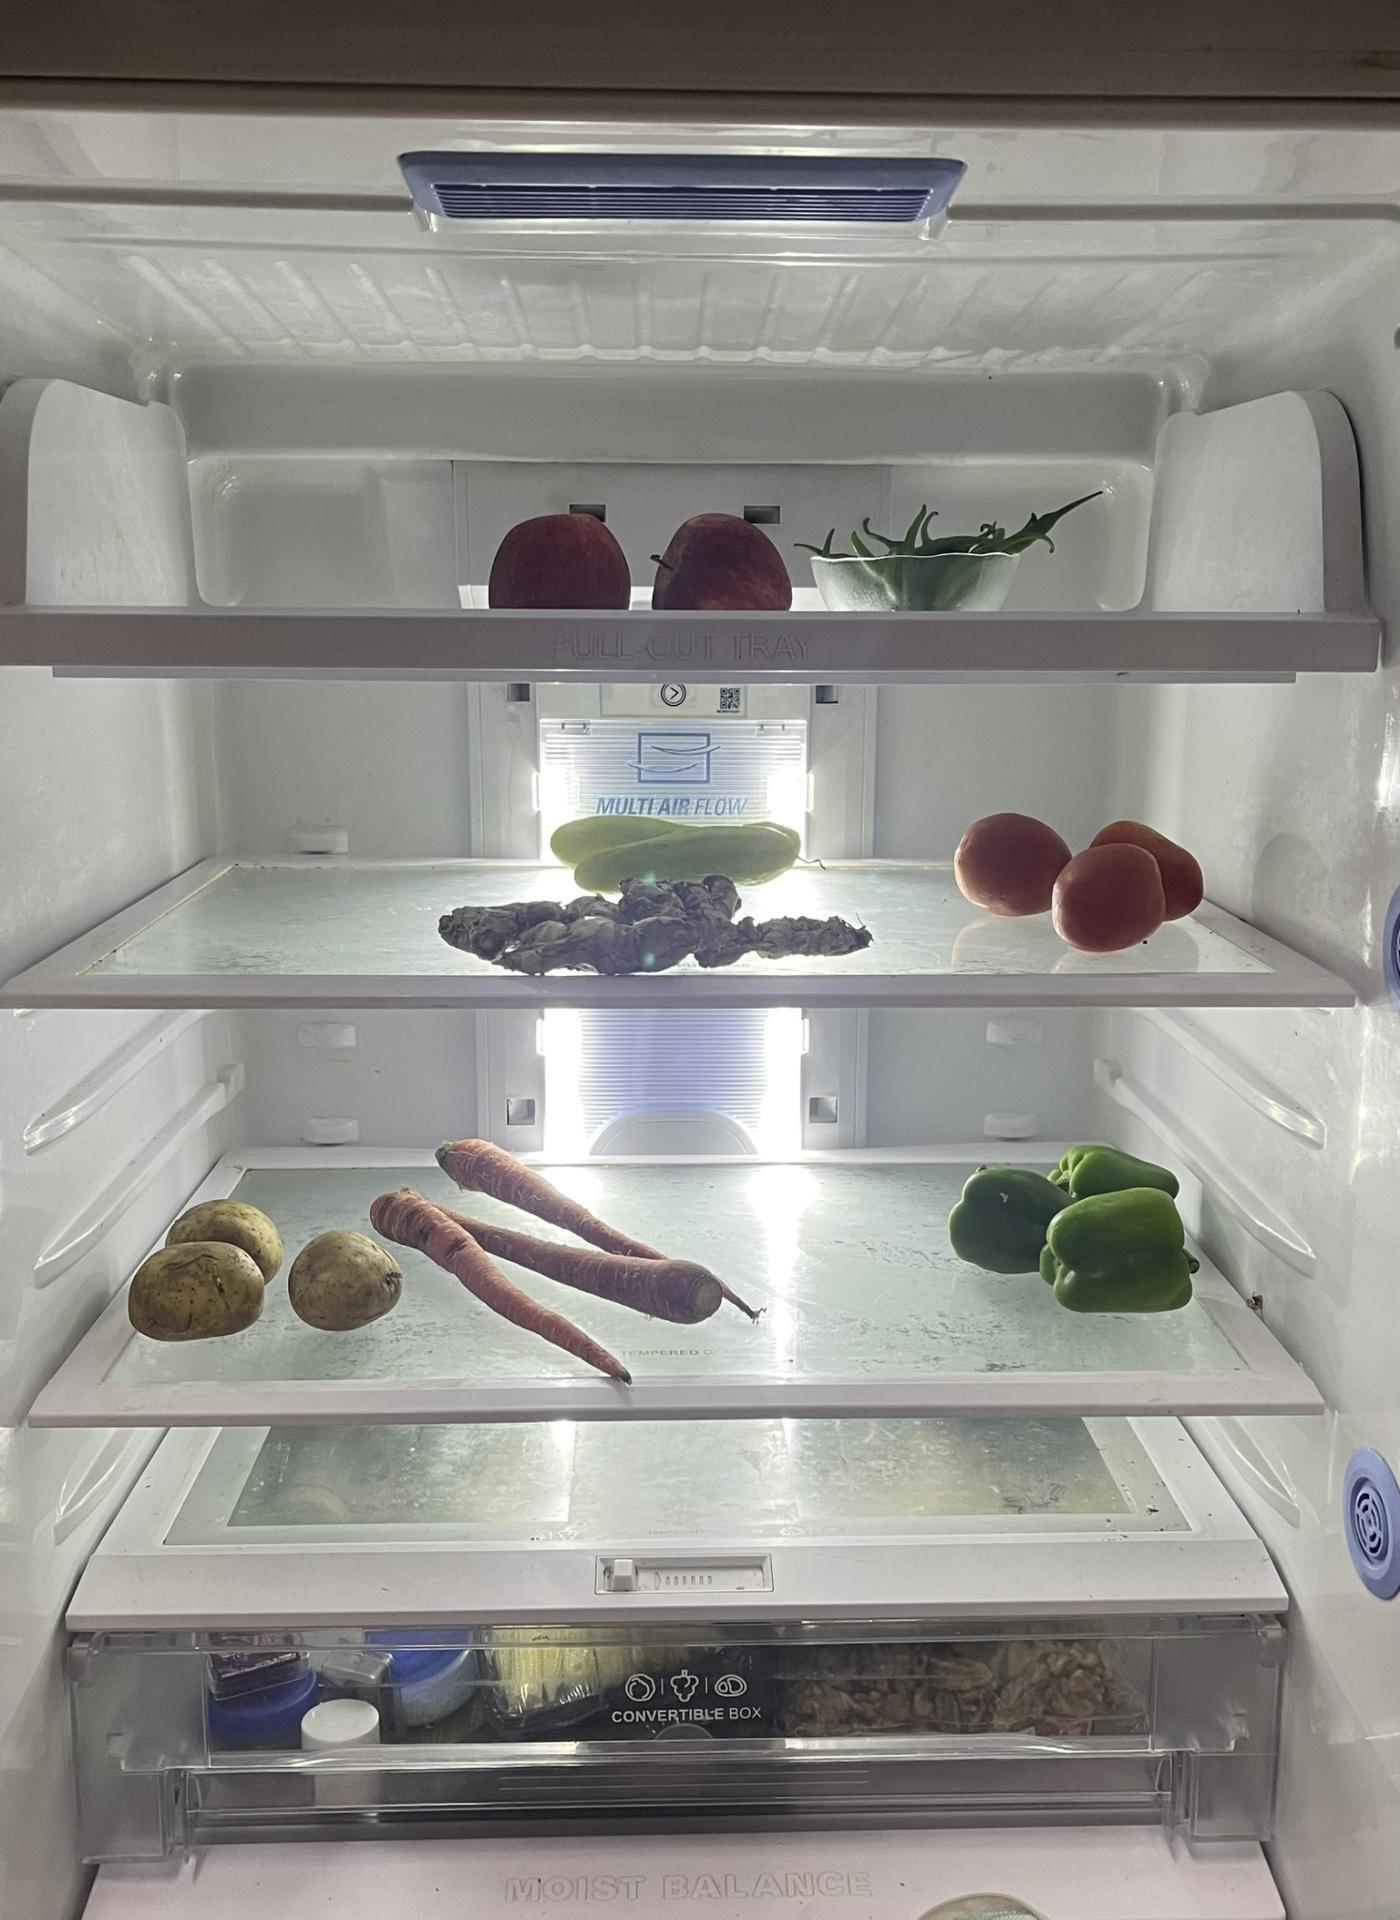apple: (641, 504, 802, 616), (486, 499, 638, 610)
capsicum: (945, 1131, 1209, 1325)
carrots: (383, 1134, 741, 1360)
chillies: (820, 479, 1060, 616)
cucumber: (544, 812, 811, 878)
ginger: (431, 872, 878, 969)
potato: (125, 1190, 279, 1346), (276, 1222, 419, 1331)
tomato: (951, 803, 1206, 950)
